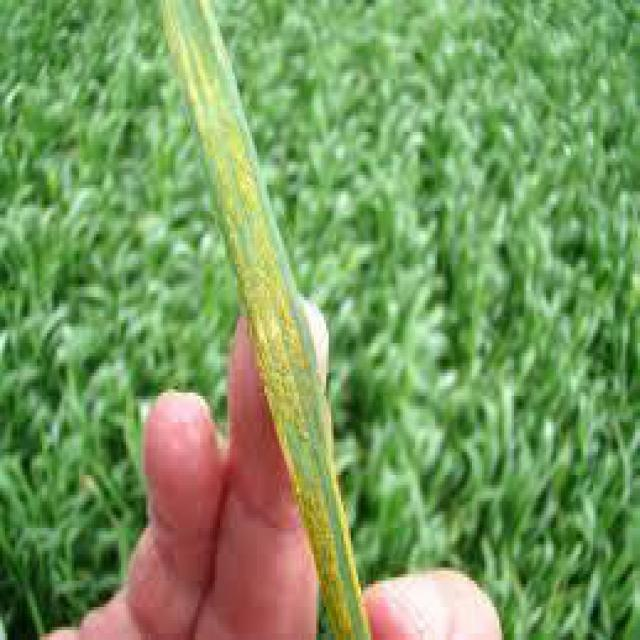wheat-yellowrust: (158, 0, 371, 640)
